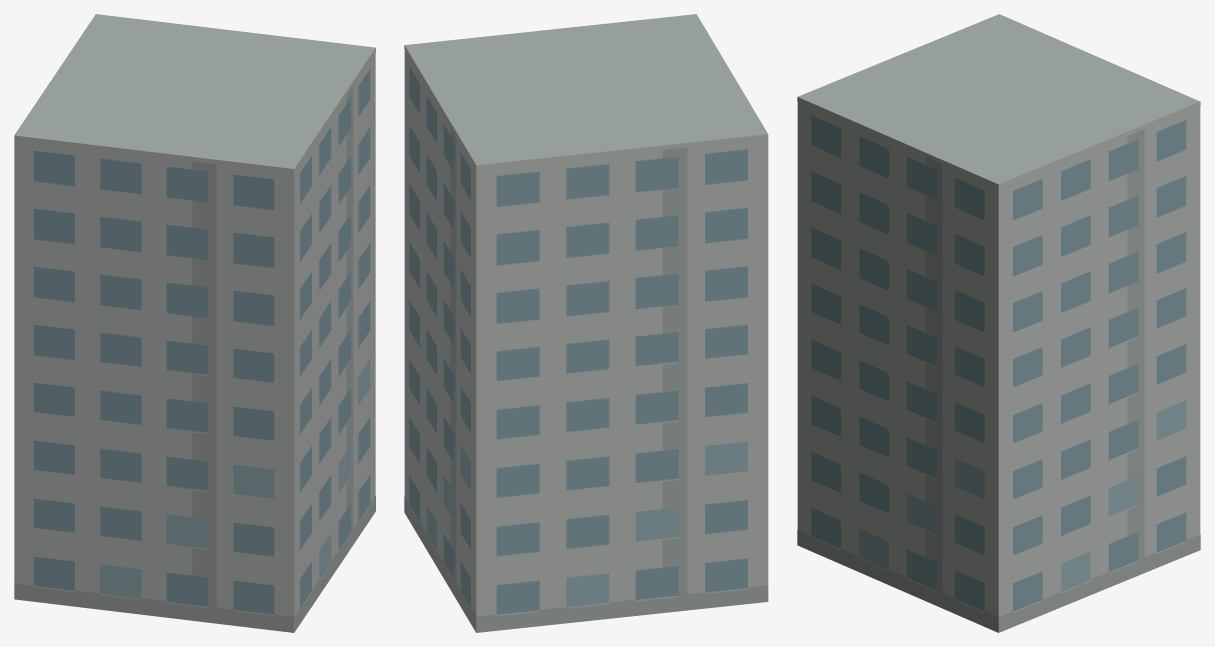
Rendered from residential-f3c74930-d969-4604-bbde-7bb7e38b4585.glb.
The picture shows the model from 3 angles, left to right: view 1: azimuth 30°, elevation 25°; view 2: azimuth 150°, elevation 25°; view 3: azimuth 270°, elevation 25°; orthographic projection. The views are drawn at different scales.
Visible parts, largest first — view 1: residential-f3c74930-d969-4604-bbde-7bb7e38b4585.tmp; view 2: residential-f3c74930-d969-4604-bbde-7bb7e38b4585.tmp; view 3: residential-f3c74930-d969-4604-bbde-7bb7e38b4585.tmp.
Part boxes in pixels (x1=…): residential-f3c74930-d969-4604-bbde-7bb7e38b4585.tmp: x1=14, y1=14, x2=375, y2=632; residential-f3c74930-d969-4604-bbde-7bb7e38b4585.tmp: x1=404, y1=14, x2=768, y2=632; residential-f3c74930-d969-4604-bbde-7bb7e38b4585.tmp: x1=797, y1=14, x2=1200, y2=632.
Bounding box in the file's own units: 19.89 × 24.4 × 19.88.
